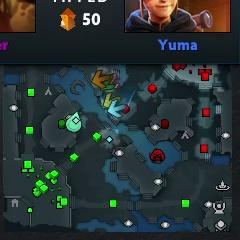p2: (65, 111, 84, 134)
x1: (111, 73, 120, 89)
x2: (102, 92, 121, 109)
x3: (107, 99, 127, 117)
x4: (100, 74, 113, 91)
x5: (90, 70, 110, 89)
